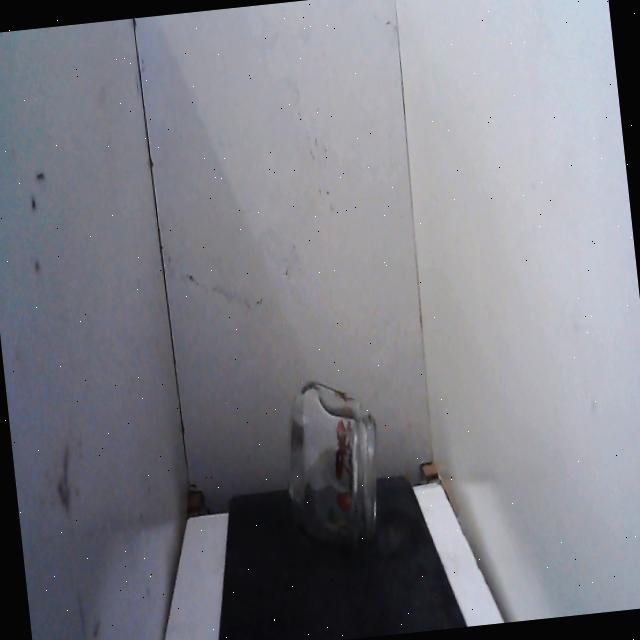vidro: (270, 358, 396, 574)
